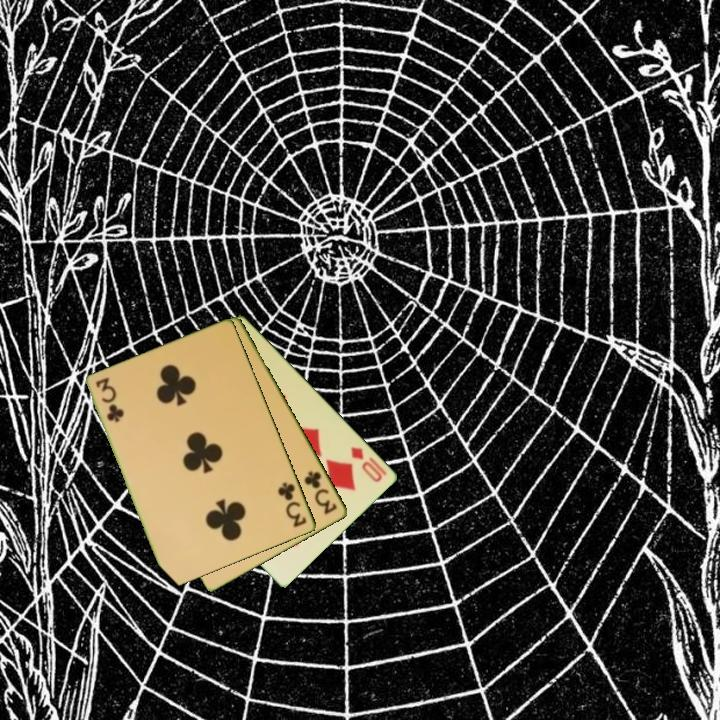10d: (348, 443, 390, 485)
3c: (301, 467, 340, 517), (275, 479, 310, 530), (92, 374, 125, 425)
